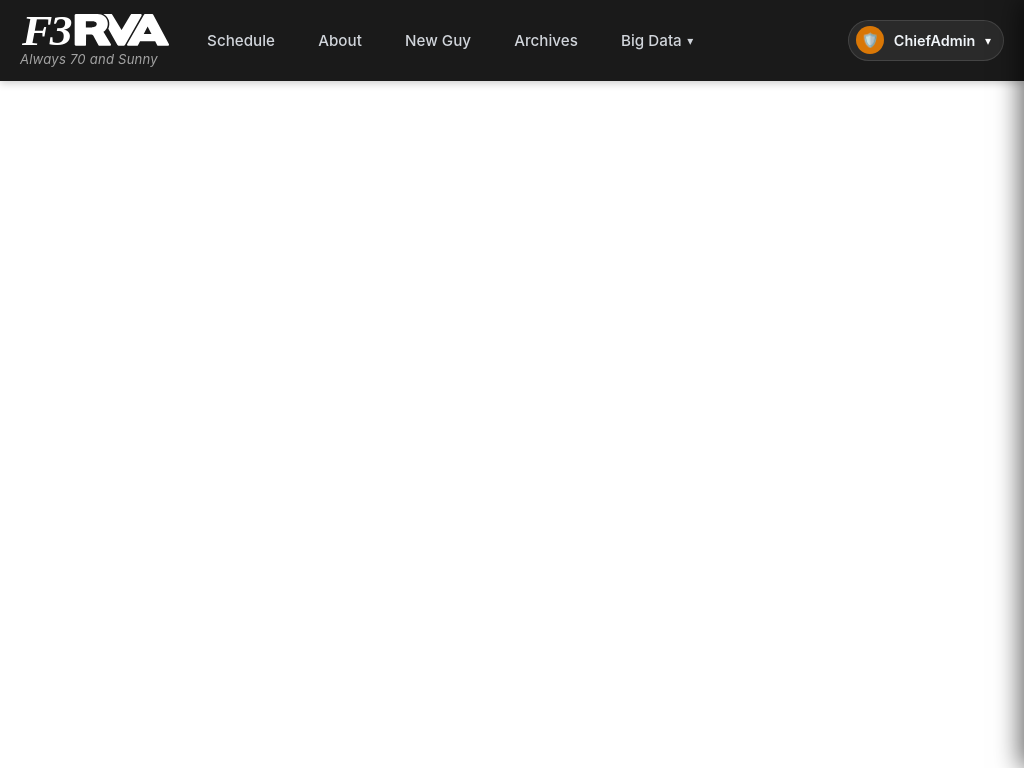
Test: MainNavigationHeader Component › displays Admin Portal and admin controls when authenticated as admin
Expected: the text "ChiefAdmin" is shown, [894,32,975,49]
Click the button with aria-label "User account menu" at (926, 40), box [848,20,1004,61]
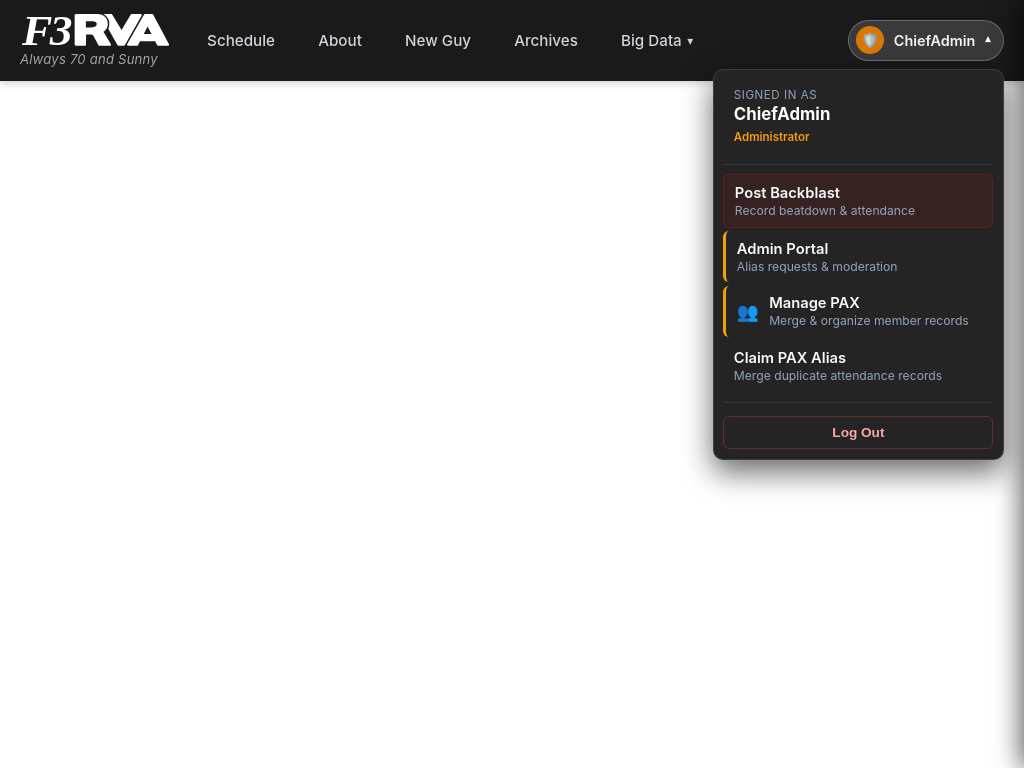
Result: the text "Admin Portal" is shown at [737,240,828,258]
Result: the text "Manage PAX" is shown at [769,294,860,312]
